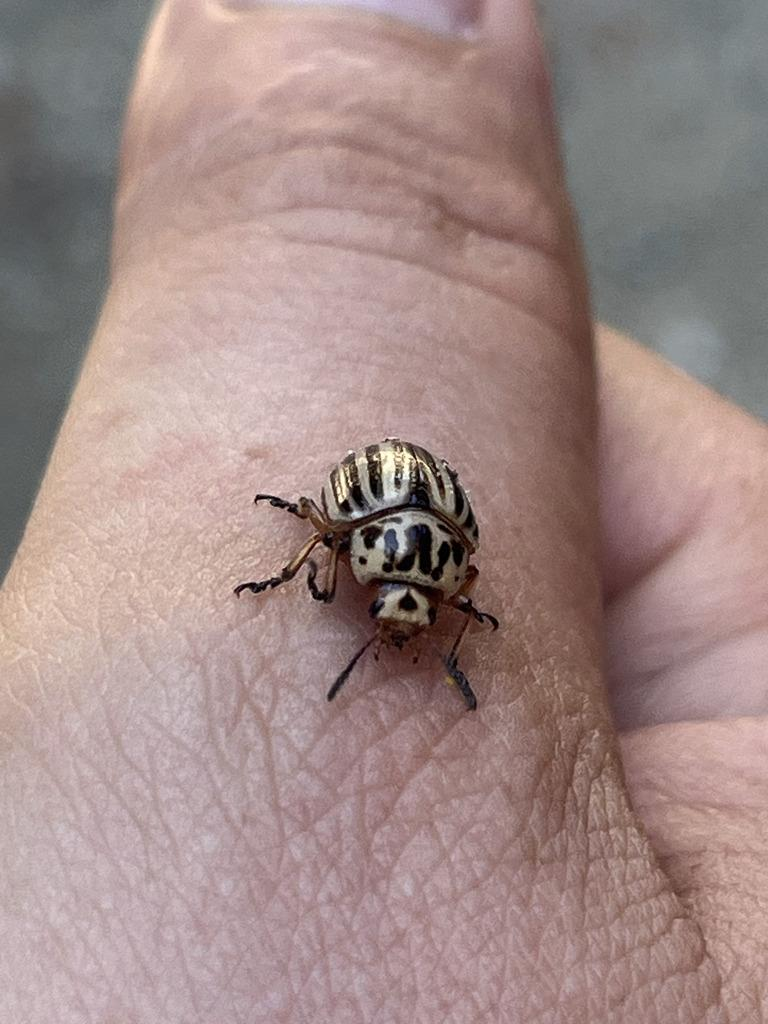potato_beetle: (217, 401, 545, 749)
